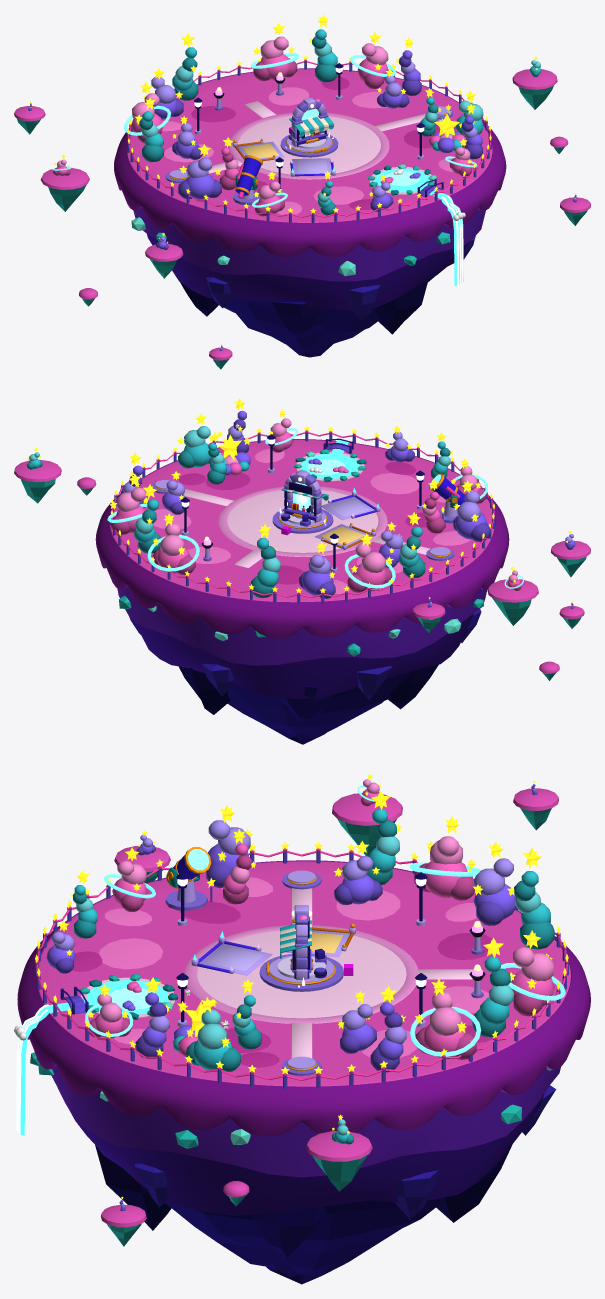
File: nebula_island.fbx
The picture shows the model from 3 angles, top to bottom: view 1: azimuth 30°, elevation 25°; view 2: azimuth 150°, elevation 25°; view 3: azimuth 270°, elevation 25°; orthographic projection. The views are drawn at different scales.
Visible parts, largest first — view 1: Nebula_Island, Nebula_Trees, Nebula_Paths, Nebula_Glow, Nebula_FloatingRocks, Nebula_Dressing, Nebula_BossPlinth, Nebula_Stall, Nebula_Portal; view 2: Nebula_Island, Nebula_Trees, Nebula_Paths, Nebula_Glow, Nebula_Dressing, Nebula_FloatingRocks, Nebula_Stall, Nebula_Portal, Nebula_BossPlinth; view 3: Nebula_Island, Nebula_Trees, Nebula_Paths, Nebula_Glow, Nebula_Dressing, Nebula_FloatingRocks, Nebula_BossPlinth, Nebula_Stall, Nebula_Portal.
Part boxes in pixels (left/top/right/bottom): Nebula_Island: left=114, top=68, right=506, bottom=357; Nebula_Trees: left=131, top=29, right=483, bottom=216; Nebula_Paths: left=165, top=101, right=452, bottom=183; Nebula_Glow: left=30, top=14, right=575, bottom=345; Nebula_FloatingRocks: left=14, top=60, right=590, bottom=369; Nebula_Dressing: left=127, top=59, right=491, bottom=222; Nebula_BossPlinth: left=280, top=134, right=338, bottom=157; Nebula_Stall: left=288, top=116, right=333, bottom=146; Nebula_Portal: left=285, top=97, right=333, bottom=149; Nebula_Island: left=95, top=439, right=509, bottom=744; Nebula_Trees: left=111, top=411, right=490, bottom=598; Nebula_Paths: left=151, top=480, right=454, bottom=568; Nebula_Glow: left=27, top=398, right=572, bottom=602; Nebula_Dressing: left=110, top=430, right=495, bottom=603; Nebula_FloatingRocks: left=14, top=452, right=590, bottom=680; Nebula_Stall: left=281, top=482, right=328, bottom=526; Nebula_Portal: left=279, top=470, right=326, bottom=525; Nebula_BossPlinth: left=272, top=508, right=333, bottom=533; Nebula_Island: left=17, top=860, right=590, bottom=1284; Nebula_Trees: left=46, top=808, right=554, bottom=1072; Nebula_Paths: left=185, top=870, right=472, bottom=1075; Nebula_Glow: left=14, top=774, right=568, bottom=1203; Nebula_Dressing: left=34, top=847, right=568, bottom=1089; Nebula_FloatingRocks: left=101, top=779, right=558, bottom=1246; Nebula_BossPlinth: left=259, top=954, right=343, bottom=991; Nebula_Stall: left=280, top=916, right=326, bottom=978; Nebula_Portal: left=291, top=905, right=312, bottom=987.
Size of the model in its own units: 181 by 95.75 by 123.
